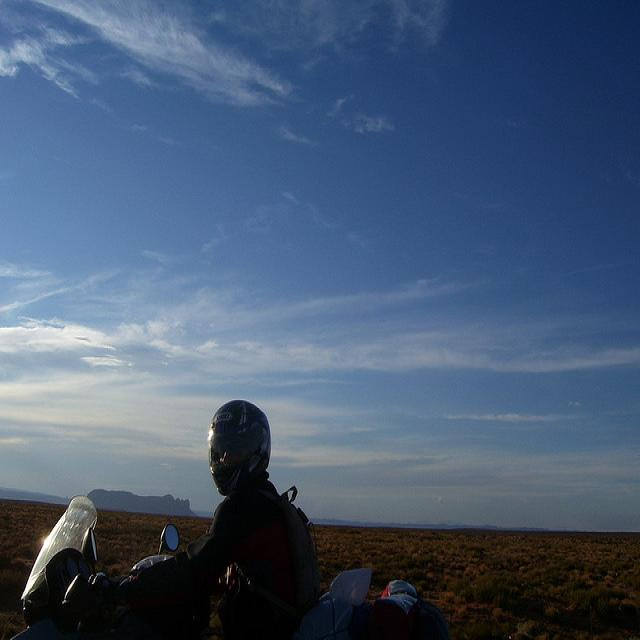motor: (7, 497, 452, 640)
